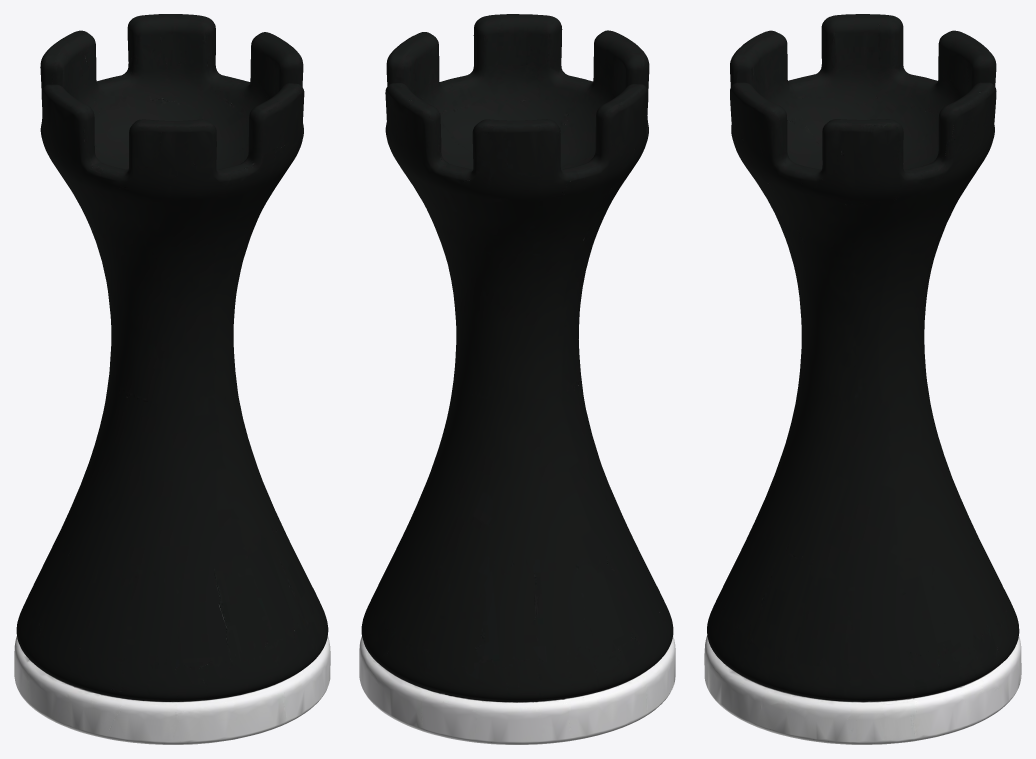
The model's file is rook-black-hd.glb.
3 views of the same model, side by side, from view 1: azimuth 30°, elevation 25°; view 2: azimuth 150°, elevation 25°; view 3: azimuth 270°, elevation 25° (orthographic).
Bounding box in the file's own units: 0.5864 × 1.25 × 0.5869.
1 material, 1 textured.
